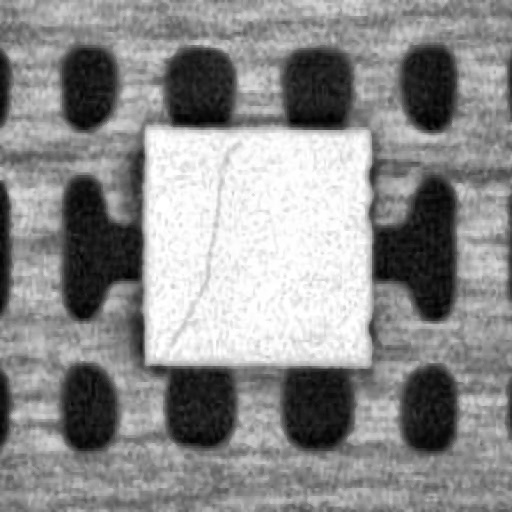DIE_CRACK: (161, 135, 241, 353)
